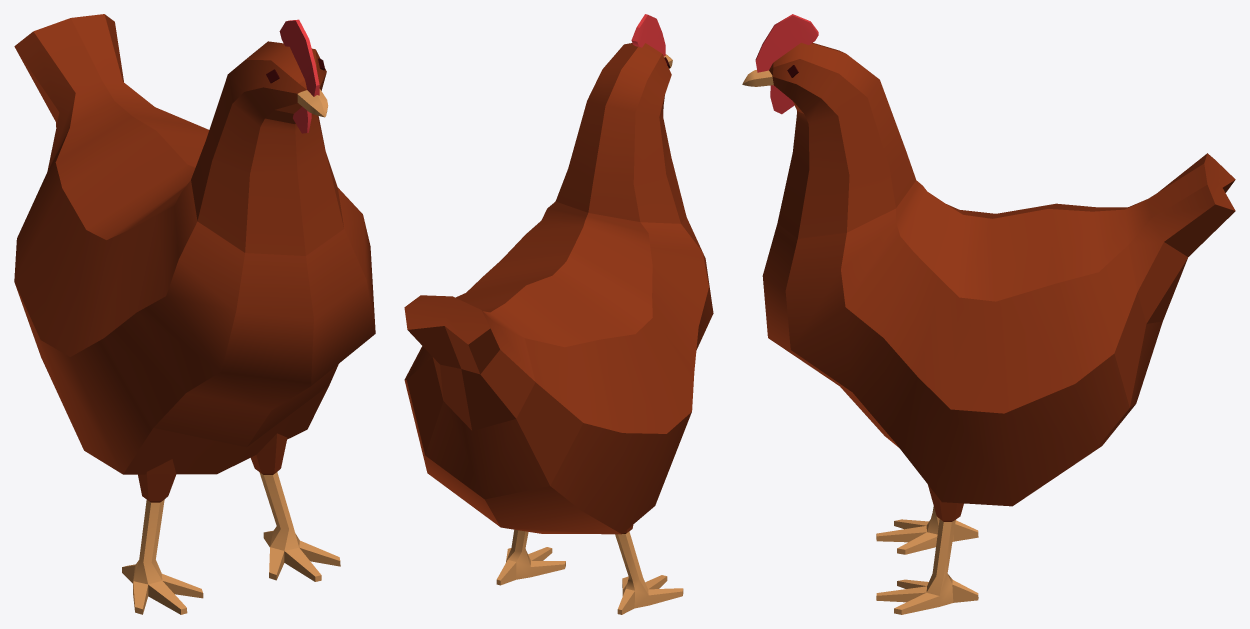
The model's file is hen.glb.
3 views of the same model, side by side, from view 1: azimuth 30°, elevation 25°; view 2: azimuth 150°, elevation 25°; view 3: azimuth 270°, elevation 25° (orthographic). The views are drawn at different scales.
Visible parts, largest first — view 1: Geo_Hen; view 2: Geo_Hen; view 3: Geo_Hen.
Part boxes in pixels (x1,y1,x2,y2): Geo_Hen: (14, 14, 375, 614); Geo_Hen: (404, 14, 713, 614); Geo_Hen: (742, 14, 1235, 614).
Bounding box in the file's own units: 36.96 × 77.08 × 62.1.
Materials: 1 (1 with a texture image).
